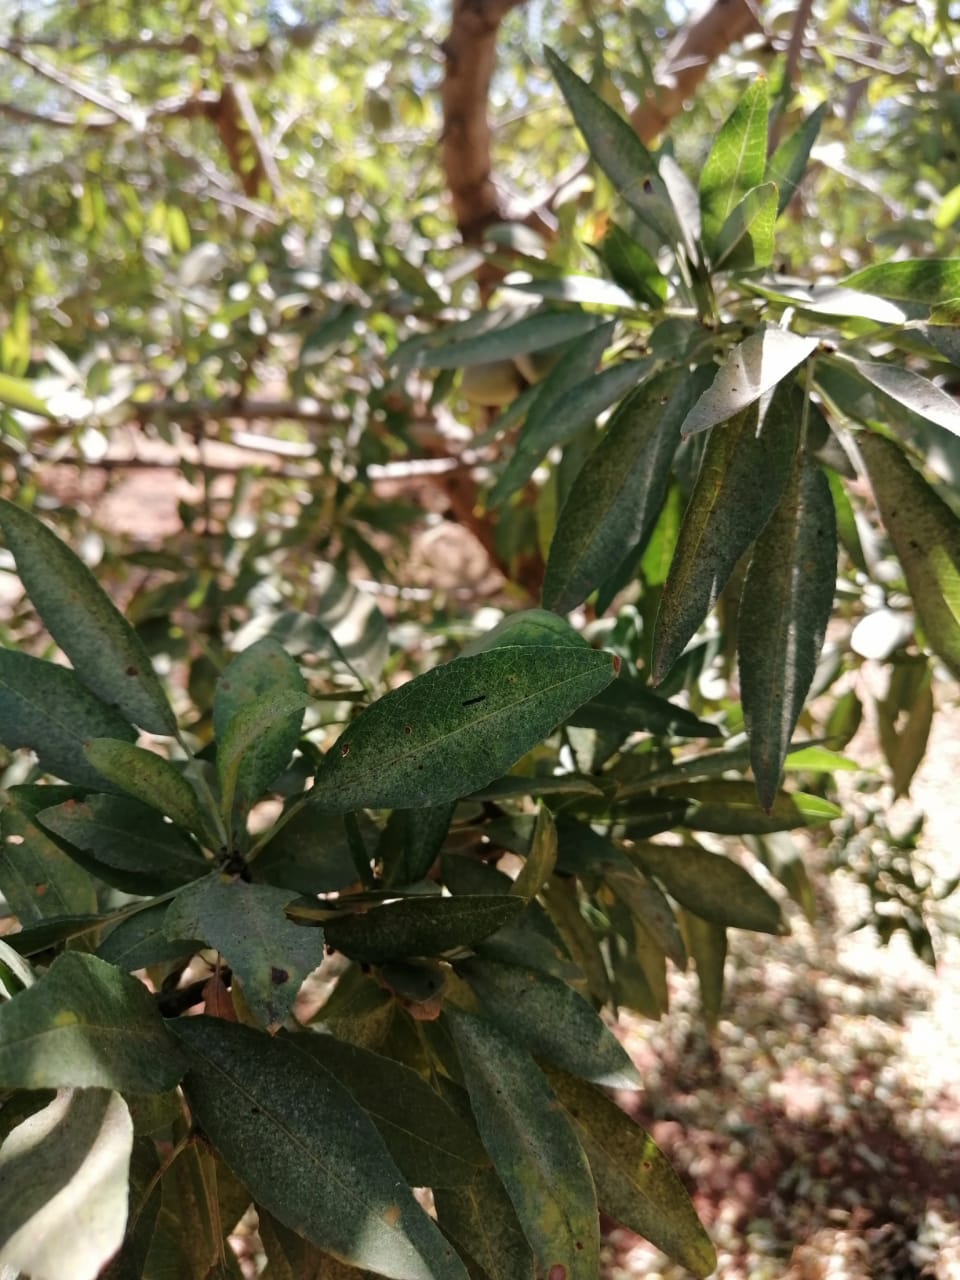acariens: (164, 1015, 487, 1280), (307, 645, 619, 811), (1, 494, 183, 738), (538, 364, 703, 615), (736, 452, 842, 815), (455, 956, 649, 1092), (159, 871, 330, 1025)
